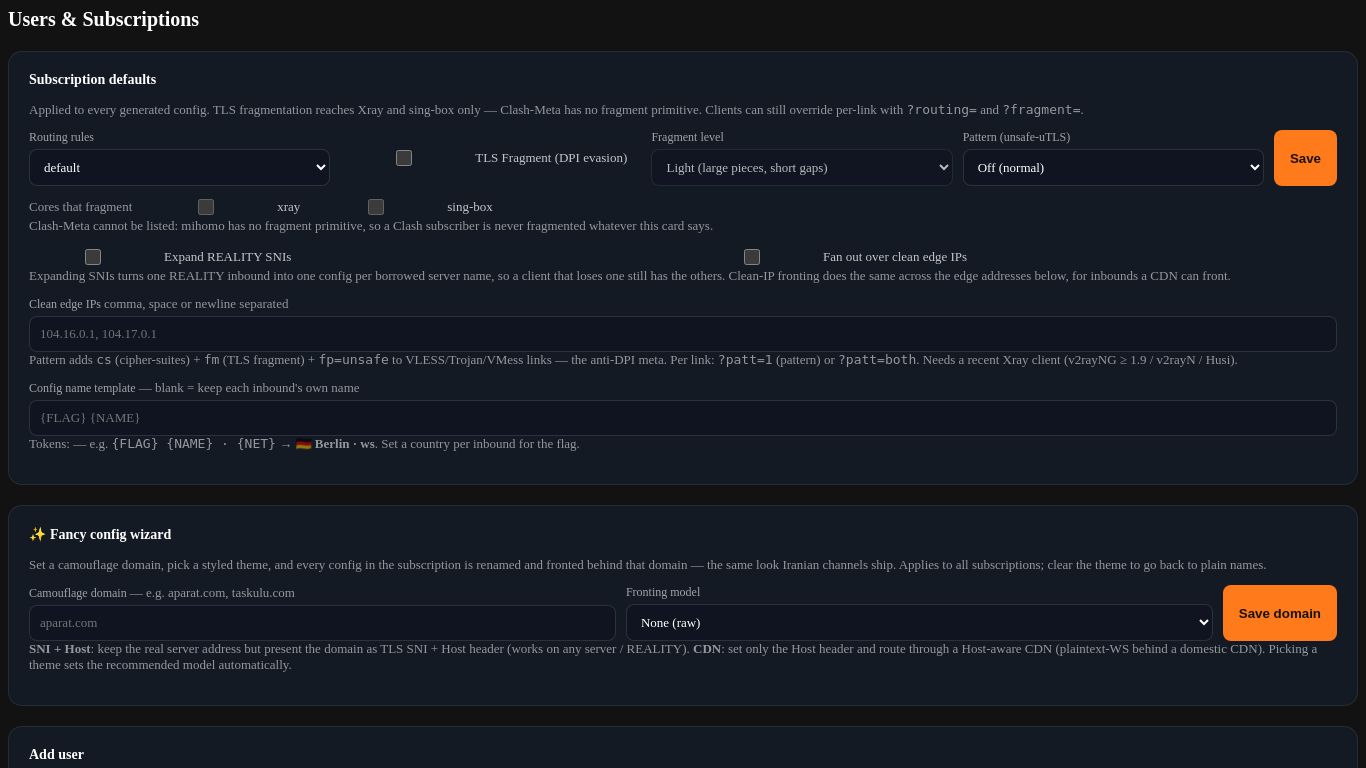
Test: UsersView subscription settings refusal › names each refused key and why, under the card that owns it
The image size is (1366, 768).
Expected: the element with test id "sub-settings" is shown, [8, 51, 1358, 485]
Click the button with test id "save-sub-settings": click(1305, 158) [1274, 130, 1337, 186]
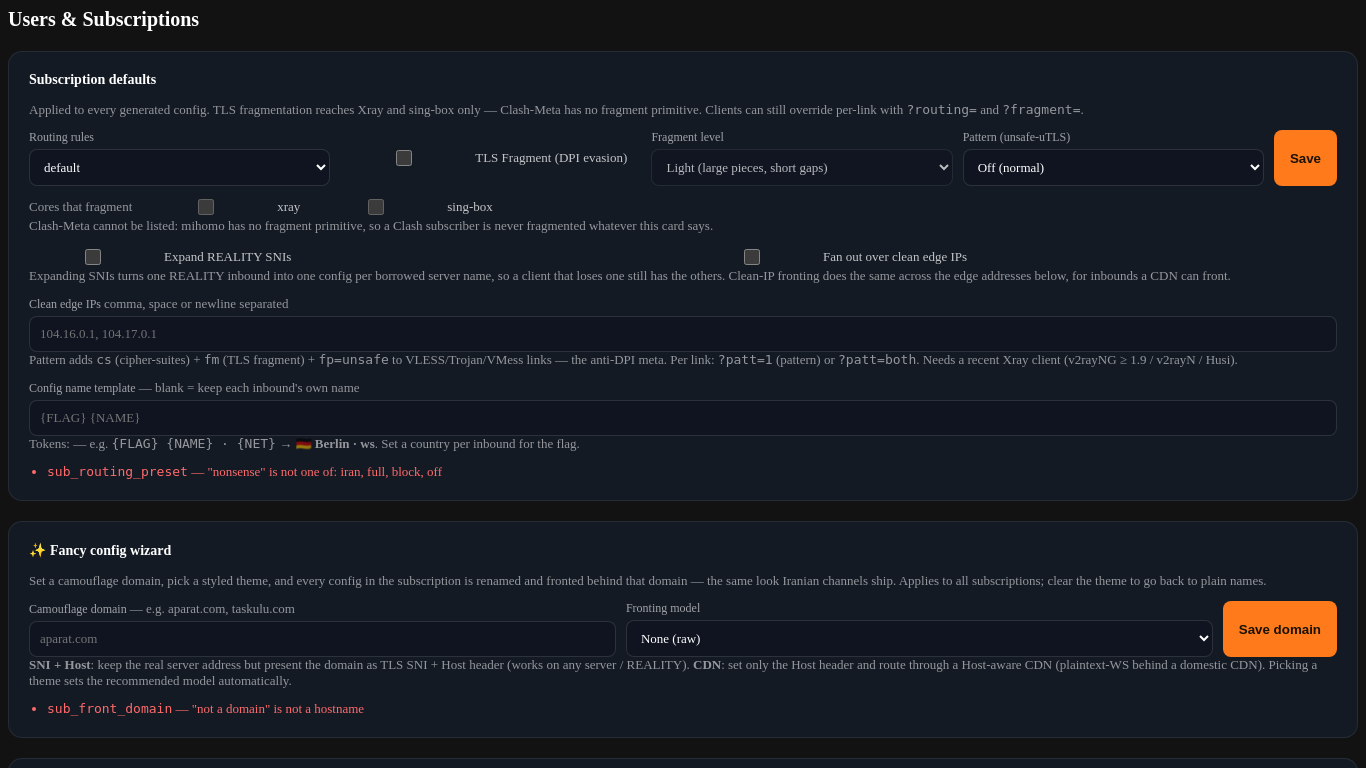
Now the list with test id "sub-settings-errors" shows "sub_routing_preset", box [47, 464, 188, 479]
Now the list with test id "sub-settings-errors" shows "is not one of", box [188, 464, 442, 479]
Now the list with test id "front-settings-errors" shows "sub_front_domain", box [47, 701, 172, 716]
